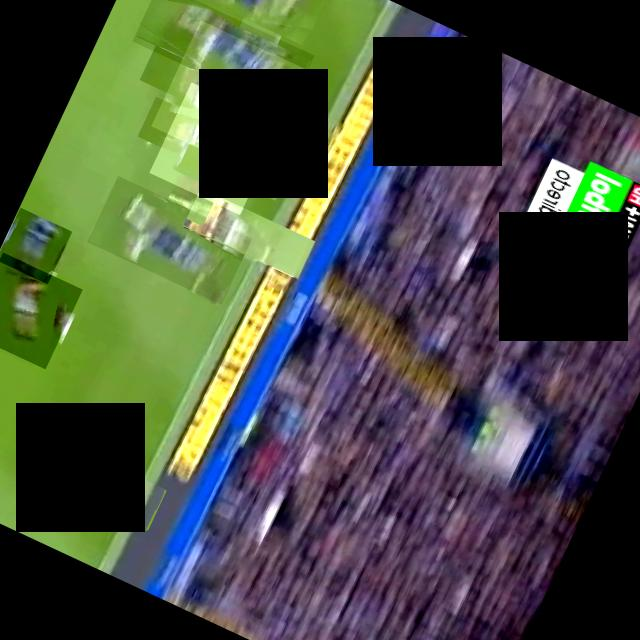soccer-player: (152, 20, 308, 176), (88, 175, 252, 304), (132, 0, 314, 112), (150, 82, 282, 215), (17, 428, 167, 530), (183, 187, 316, 279), (0, 251, 83, 368), (158, 0, 333, 54), (0, 207, 72, 284)
